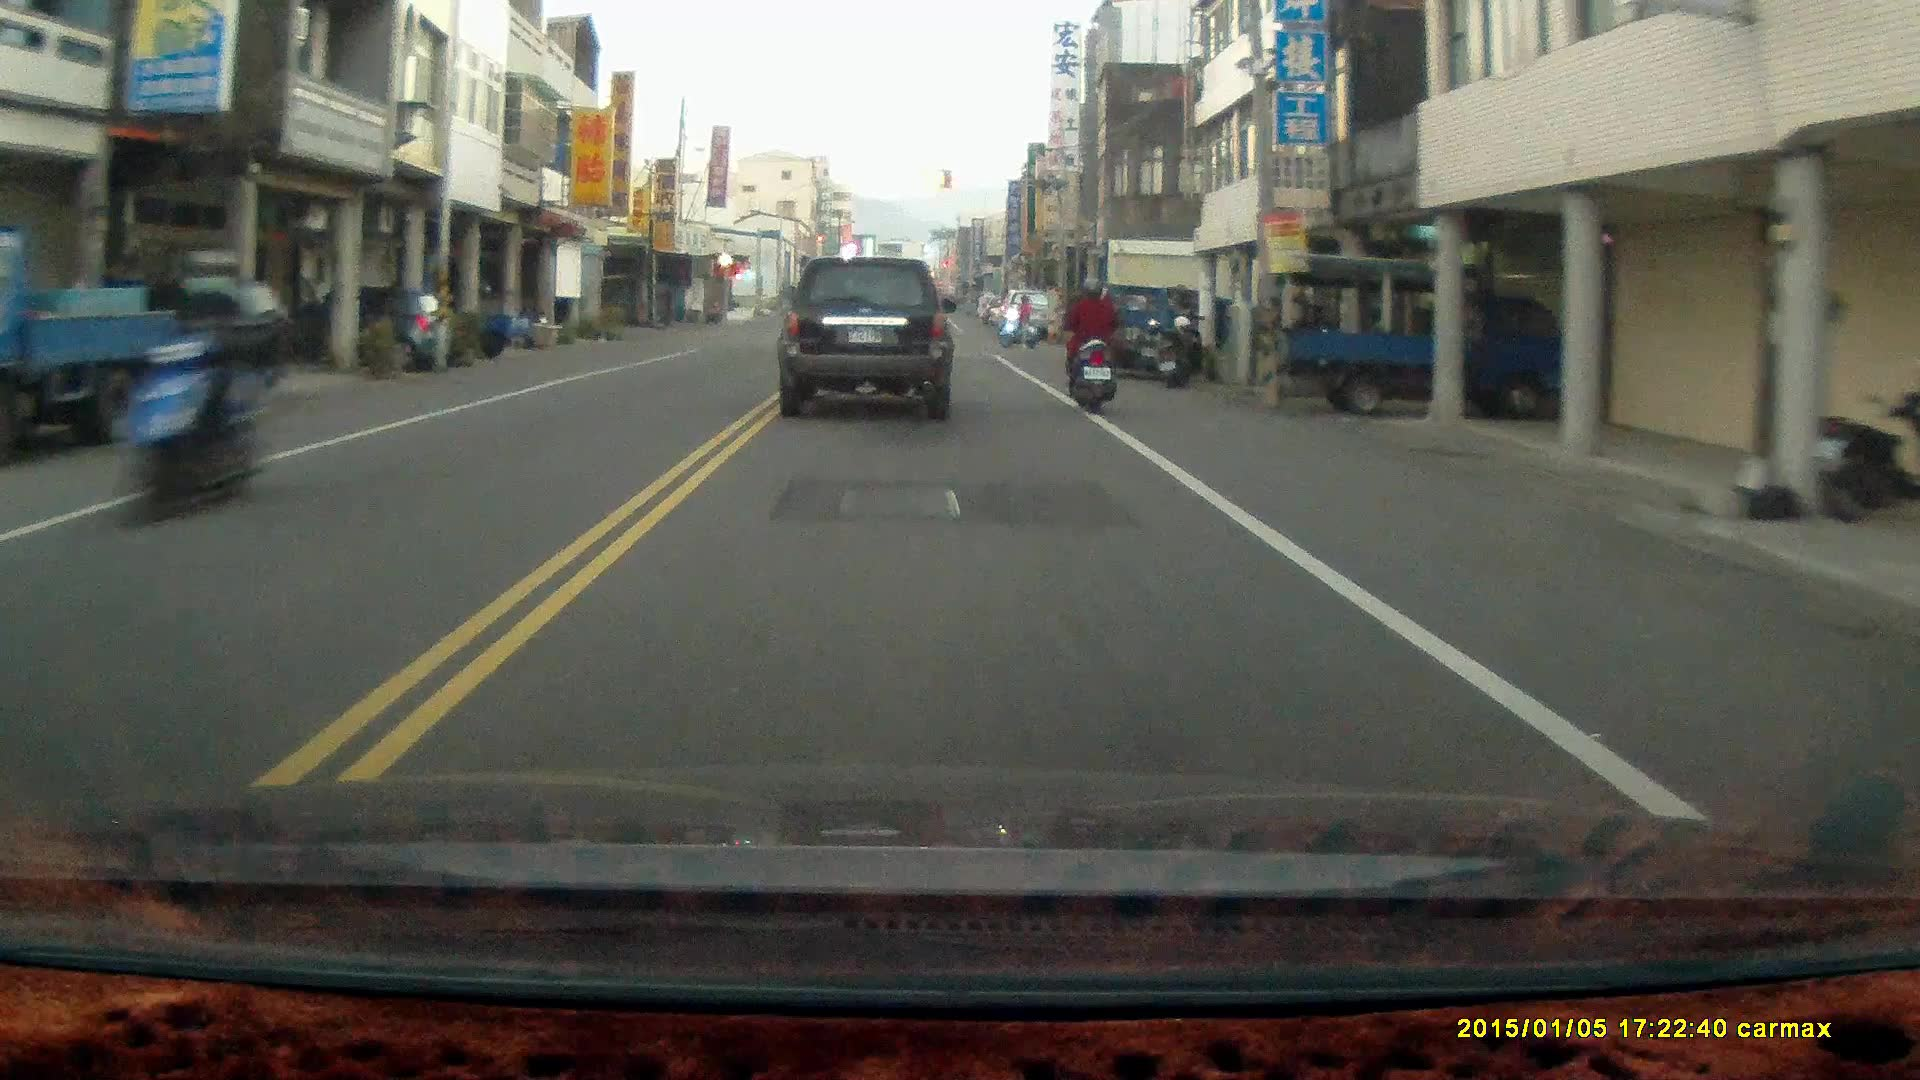rider: (102, 244, 276, 525), (1064, 275, 1118, 415), (996, 293, 1036, 345)
vehicle: (1281, 259, 1592, 423), (776, 256, 956, 426), (284, 281, 453, 373), (1080, 282, 1191, 381)
